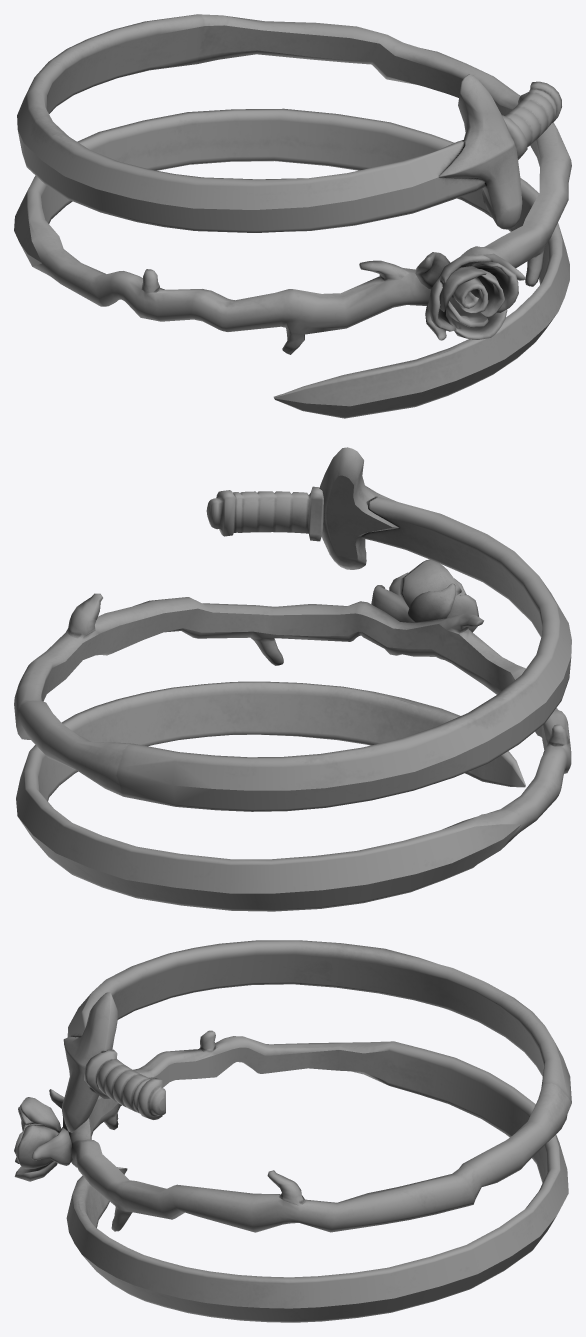
File: ring - hd.glb
3 views of the same model, one above another, from view 1: azimuth 30°, elevation 25°; view 2: azimuth 150°, elevation 25°; view 3: azimuth 270°, elevation 25° (orthographic). The views are drawn at different scales.
Parts seen in each view (by area): view 1: Hoja_low.001, guarda_low.001, Rose_low.001, mango_low.001, leaf_B_low.001; view 2: Hoja_low.001, guarda_low.001, mango_low.001, Rose_low.001, leaf_B_low.001, leaf_A_low.001; view 3: Hoja_low.001, guarda_low.001, mango_low.001, Rose_low.001, leaf_A_low.001.
Boxes of the visible parts, bbox=[...] form: Hoja_low.001: bbox=[14, 14, 571, 418]; guarda_low.001: bbox=[439, 74, 522, 229]; Rose_low.001: bbox=[428, 254, 518, 339]; mango_low.001: bbox=[502, 81, 561, 159]; leaf_B_low.001: bbox=[415, 252, 450, 289]; Hoja_low.001: bbox=[14, 496, 571, 911]; guarda_low.001: bbox=[319, 447, 399, 569]; mango_low.001: bbox=[206, 486, 323, 541]; Rose_low.001: bbox=[389, 559, 478, 632]; leaf_B_low.001: bbox=[408, 583, 455, 622]; leaf_A_low.001: bbox=[371, 585, 415, 622]; Hoja_low.001: bbox=[66, 940, 571, 1322]; guarda_low.001: bbox=[62, 992, 117, 1132]; mango_low.001: bbox=[84, 1049, 165, 1119]; Rose_low.001: bbox=[14, 1097, 61, 1181]; leaf_A_low.001: bbox=[31, 1127, 72, 1165].
Bounding box in the file's own units: 5.85 × 3.54 × 6.48.
1 material, 1 textured.
